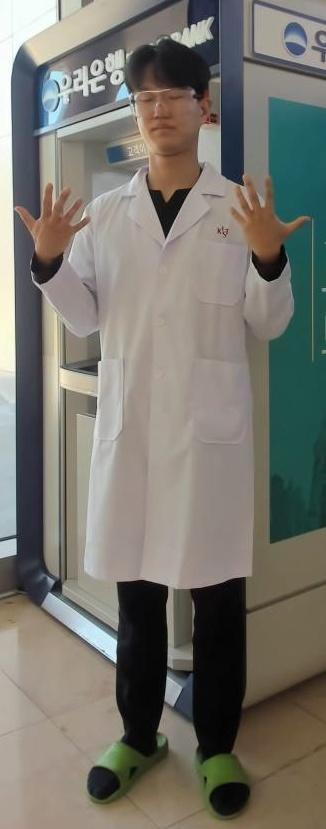lab_coat: (82, 185, 237, 582)
